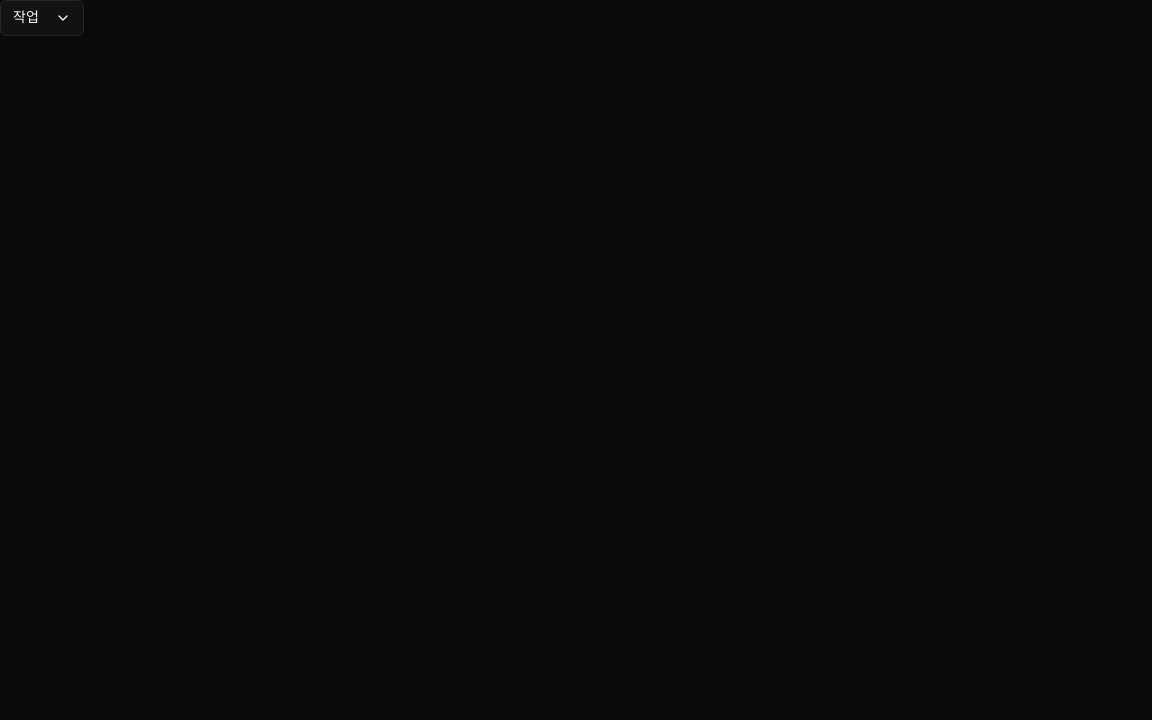
Test: PartyroomsActionsDropdown — status-aware disabled › clicking 표시 변경 opens display-flag dialog
The width and height of the screenshot is (1152, 720).
Step 1. Click the button "작업" → click(42, 18), box [0, 0, 84, 36]
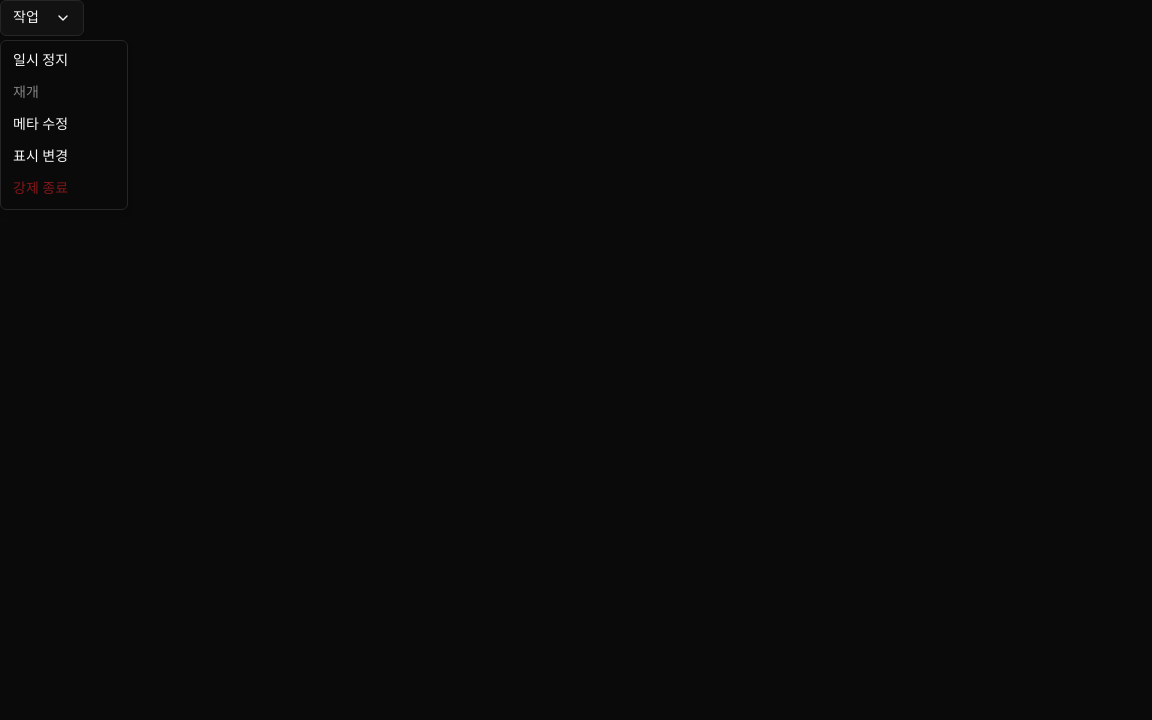
Step 2. Click the menu item "표시 변경" → click(40, 156), box [13, 149, 68, 164]
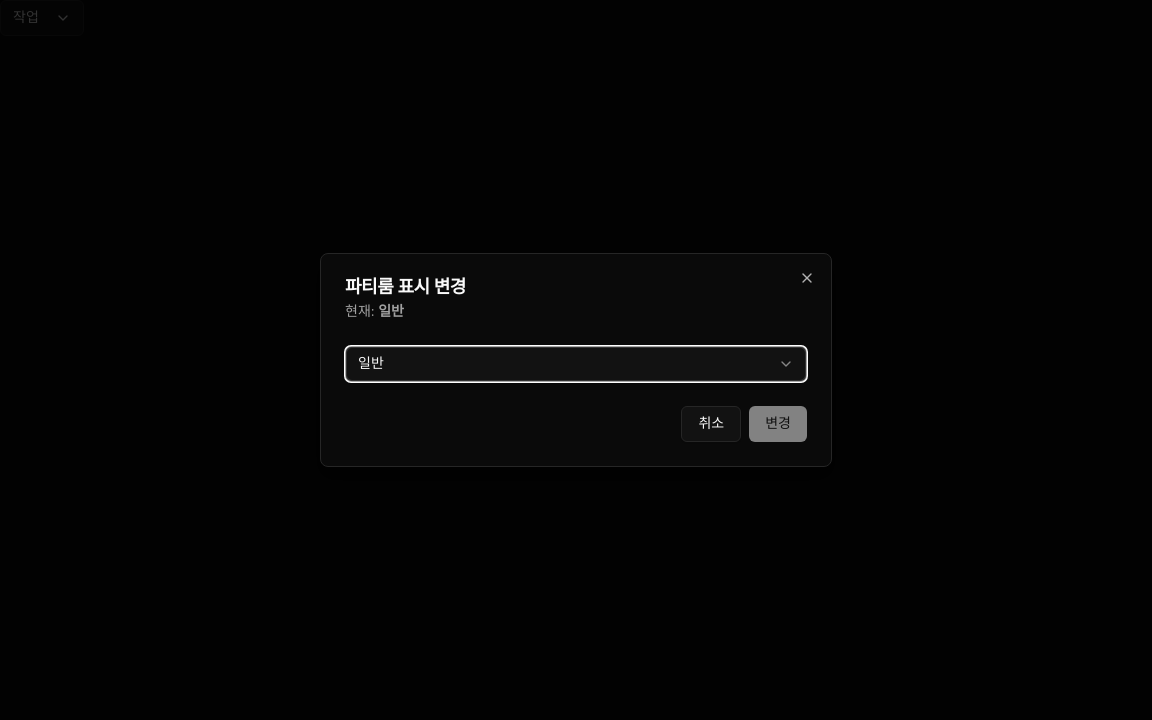
expect the heading "파티룸 표시 변경" is shown: met, box [345, 277, 466, 297]
